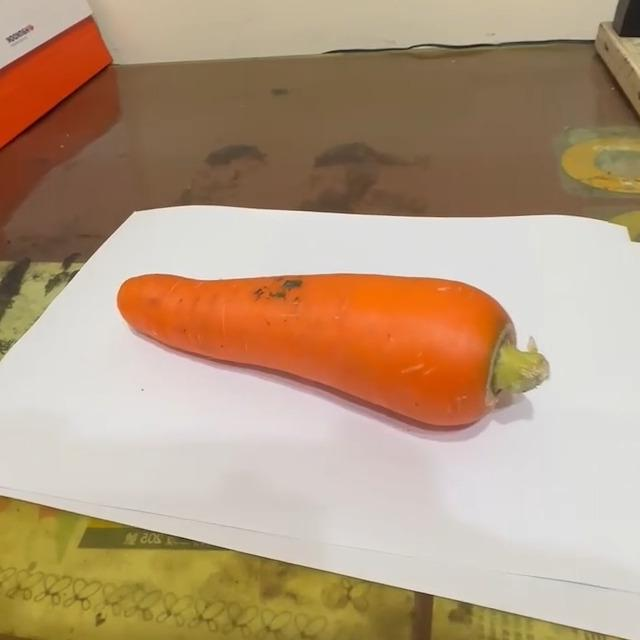carrot: (112, 268, 556, 430)
